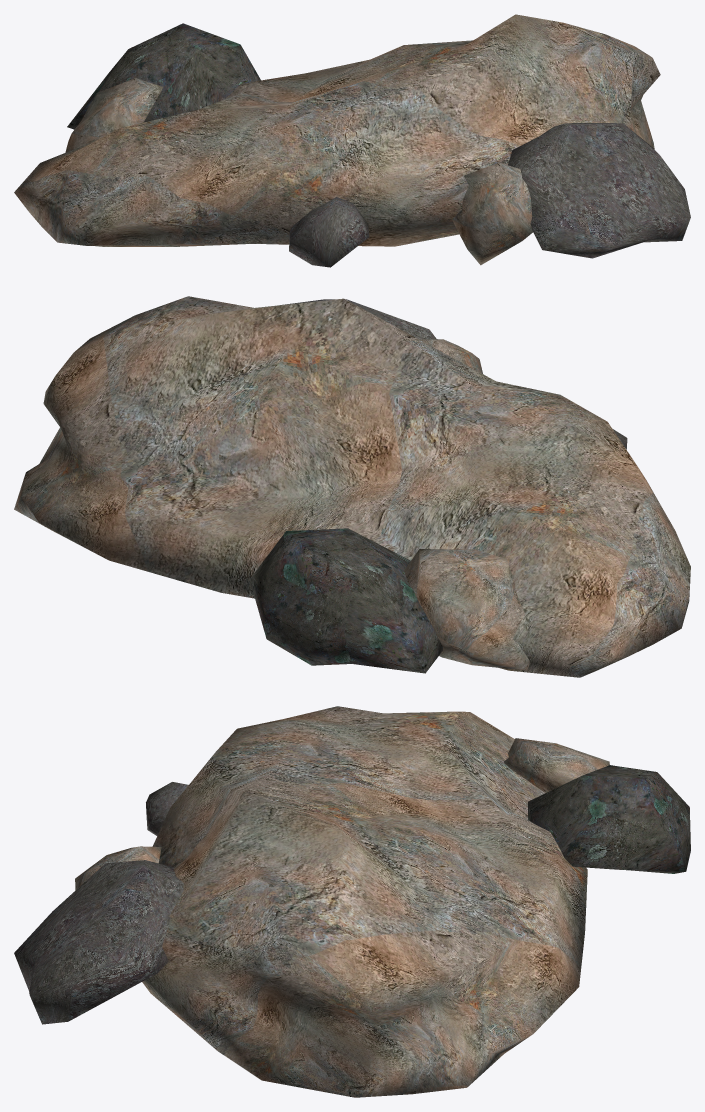
The model's file is rock_forestrockcluster_l0.fbx.
3 renders of one model, top to bottom at view 1: azimuth 30°, elevation 25°; view 2: azimuth 150°, elevation 25°; view 3: azimuth 270°, elevation 25°, orthographic. The views are drawn at different scales.
Parts seen in each view (by area): view 1: mesh_node; view 2: mesh_node; view 3: mesh_node.
Part boxes in pixels (box(x1,y1,x2,y2)): mesh_node: box(14, 14, 690, 267); mesh_node: box(14, 296, 690, 677); mesh_node: box(14, 706, 690, 1097).
Bounding box in the file's own units: 4.55 × 1.29 × 4.05.
